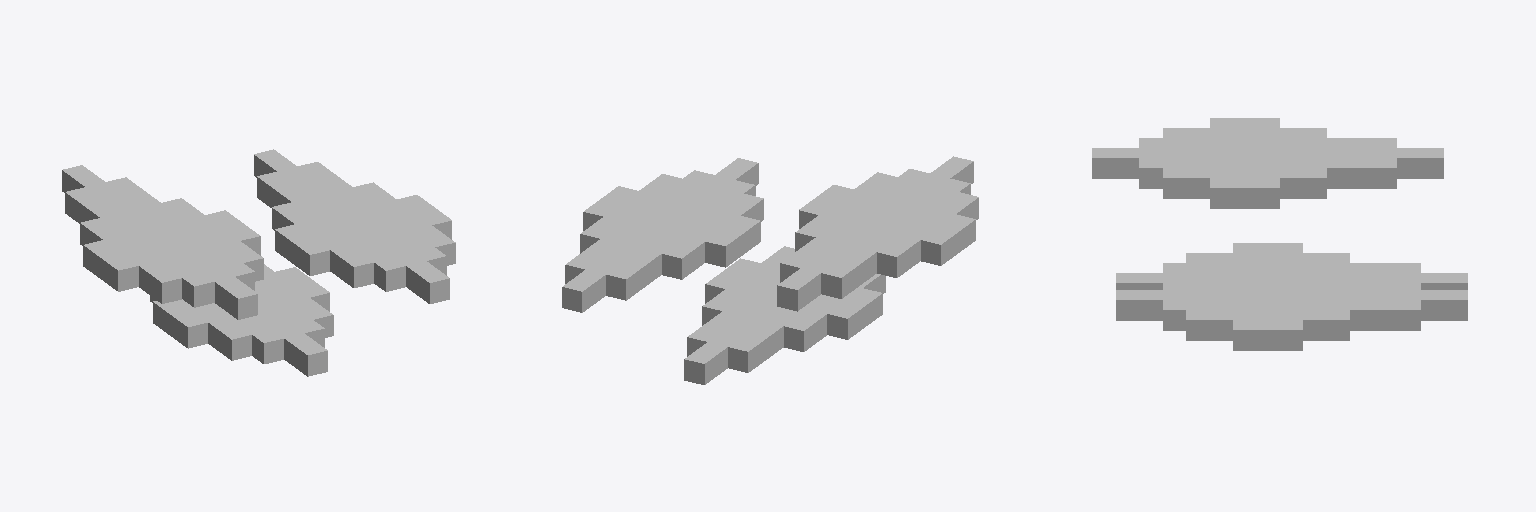
Rendered from Leaf Bullet.obj.
3 renders of one model, left to right at view 1: azimuth 30°, elevation 25°; view 2: azimuth 150°, elevation 25°; view 3: azimuth 270°, elevation 25°, orthographic.
Parts seen in each view (by area): view 1: object 1; view 2: object 1; view 3: object 1.
Part boxes in pixels (bbox=[...]): object 1: bbox=[62, 149, 455, 376]; object 1: bbox=[562, 156, 978, 384]; object 1: bbox=[1092, 118, 1467, 350].
Bounding box in the file's own units: 1.7 × 0.5 × 1.6.